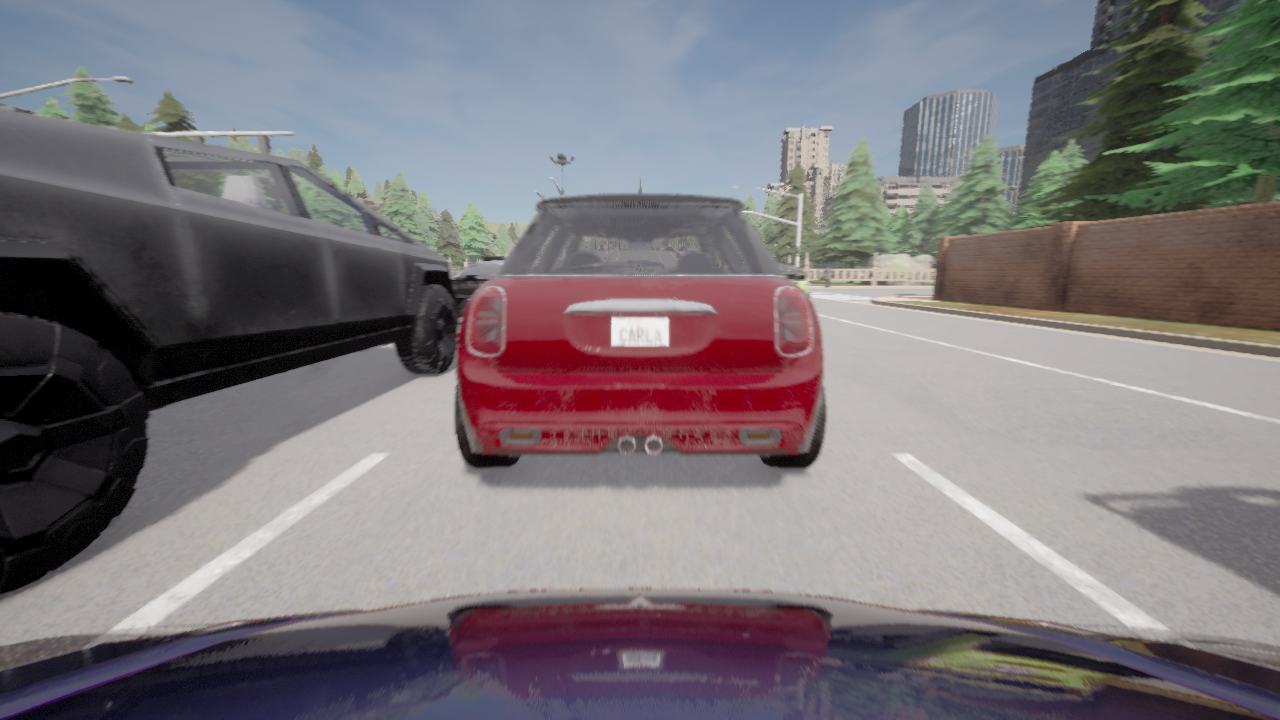cyclist: (0, 588, 1279, 719), (454, 177, 825, 467), (452, 256, 506, 324), (776, 262, 809, 298)
